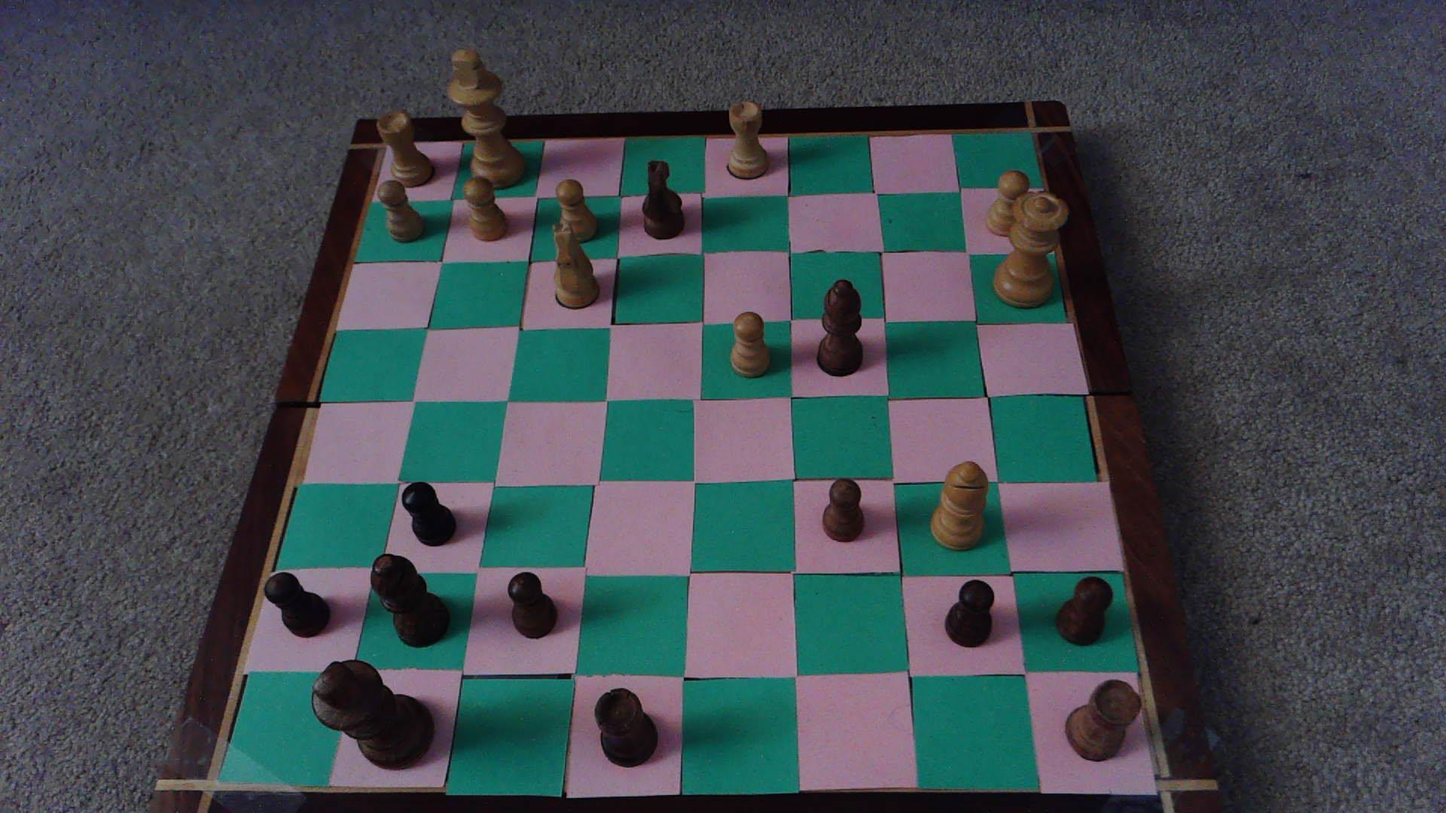dark_piece: (313, 660, 433, 769), (371, 554, 447, 647), (1066, 680, 1140, 760), (595, 688, 657, 766), (817, 279, 862, 375), (265, 573, 329, 636), (1057, 577, 1112, 645), (401, 483, 455, 546), (508, 572, 557, 638), (945, 580, 993, 647), (642, 160, 683, 238), (822, 479, 864, 541)
white_piece: (447, 48, 525, 187), (994, 192, 1067, 306), (932, 461, 987, 550), (549, 223, 600, 308), (377, 111, 433, 185), (725, 101, 766, 179), (376, 179, 425, 243), (987, 169, 1031, 235), (463, 175, 506, 242), (555, 178, 597, 244), (731, 312, 769, 376)
